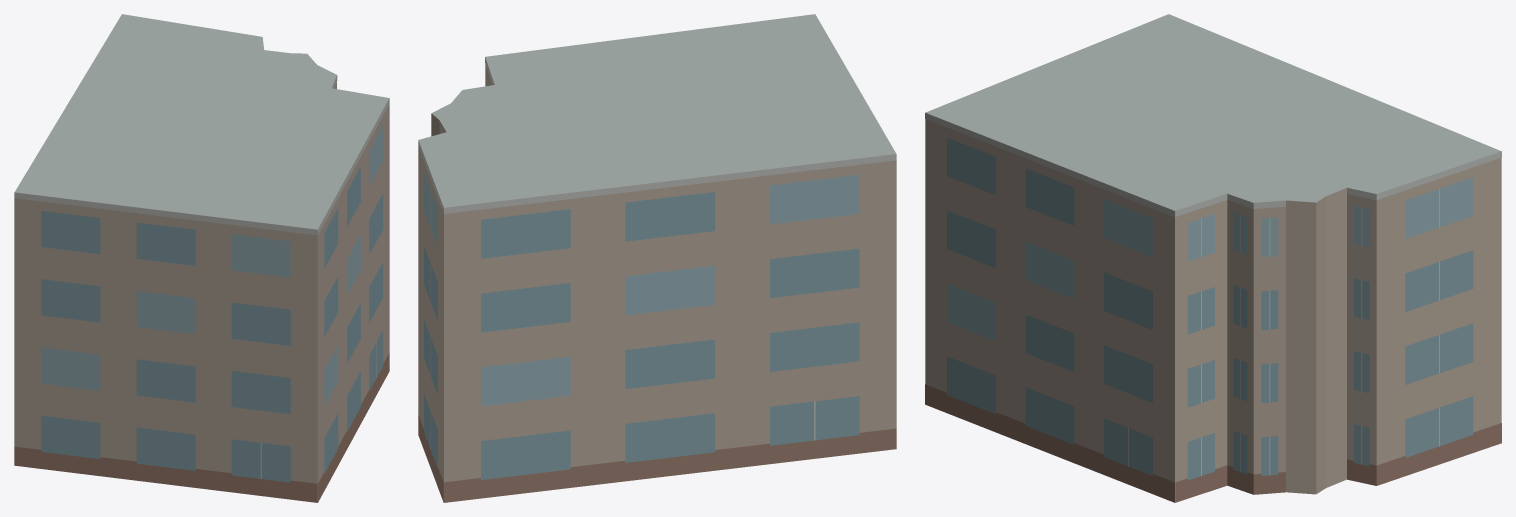
File: survey-upis-32840702.glb
3 views of the same model, side by side, from view 1: azimuth 30°, elevation 25°; view 2: azimuth 150°, elevation 25°; view 3: azimuth 270°, elevation 25° (orthographic). The views are drawn at different scales.
Visible parts, largest first — view 1: survey-upis-32840702.tmp; view 2: survey-upis-32840702.tmp; view 3: survey-upis-32840702.tmp.
Part boxes in pixels (x1,y1,x2,y2): survey-upis-32840702.tmp: (14, 14, 389, 502); survey-upis-32840702.tmp: (418, 14, 896, 502); survey-upis-32840702.tmp: (925, 14, 1501, 502).
Bounding box in the file's own units: 16.66 × 11.5 × 20.6.
